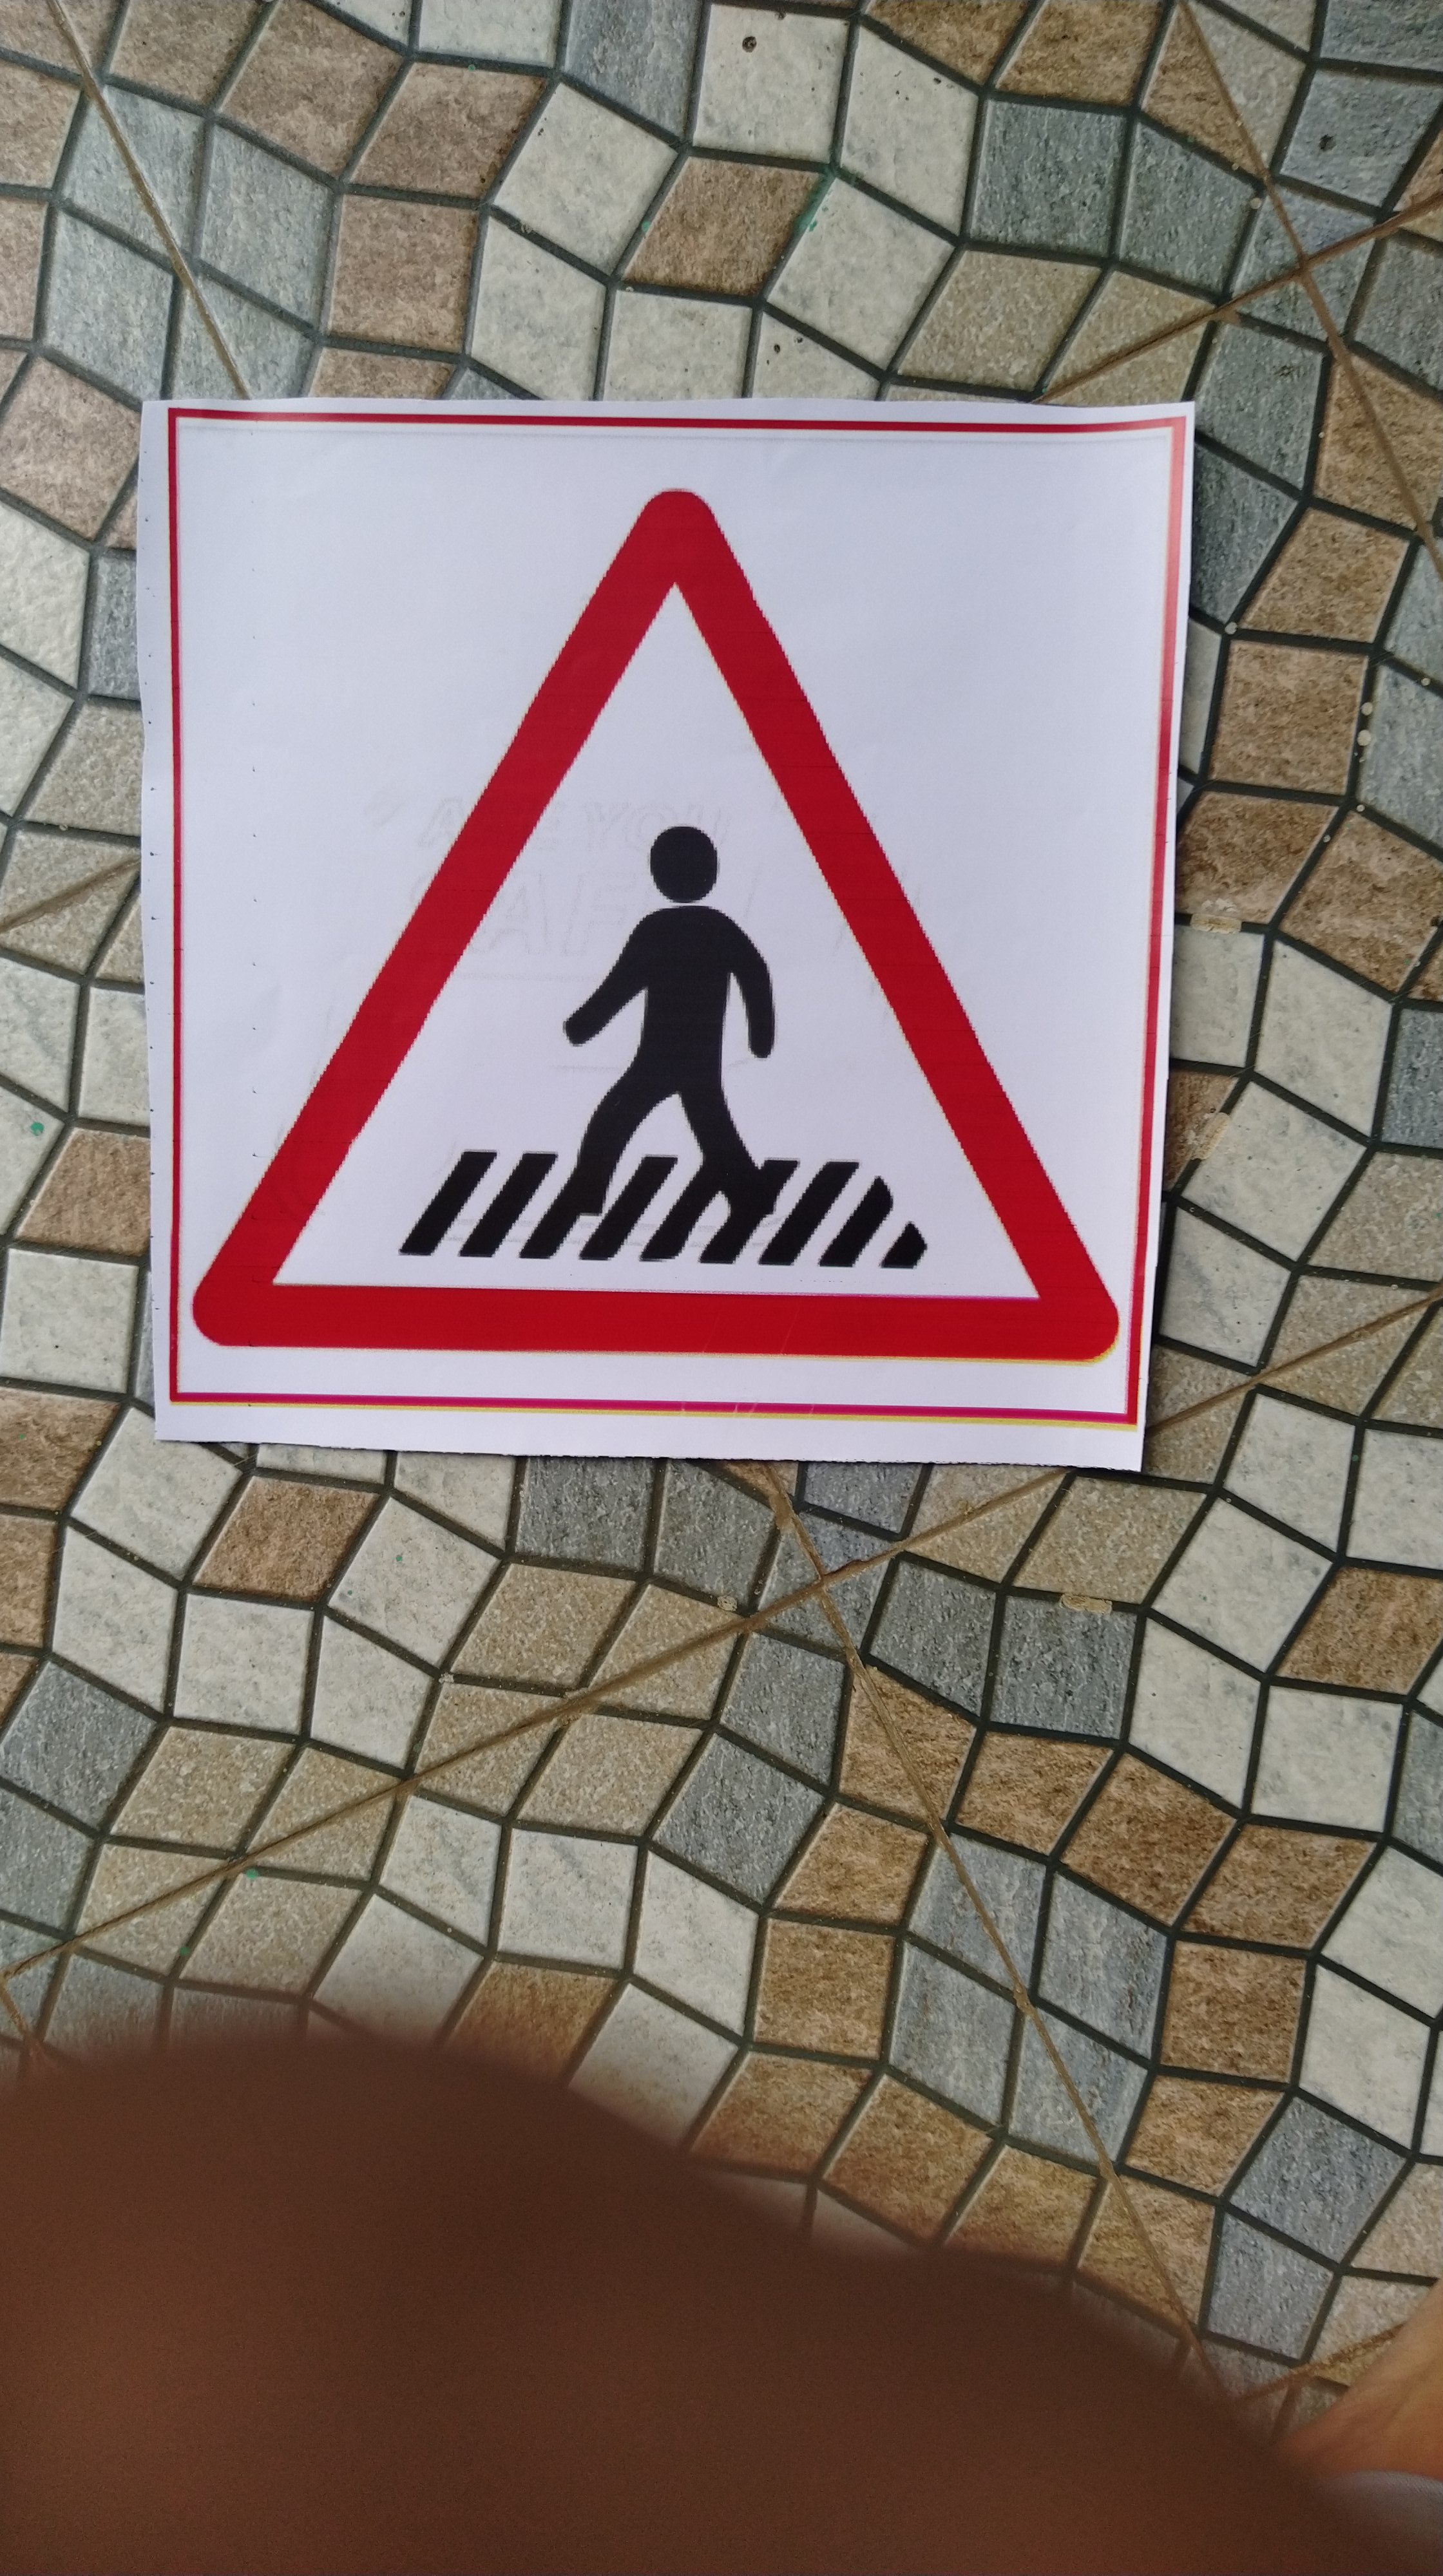pedestrain crossing: (195, 432, 1128, 1430)
